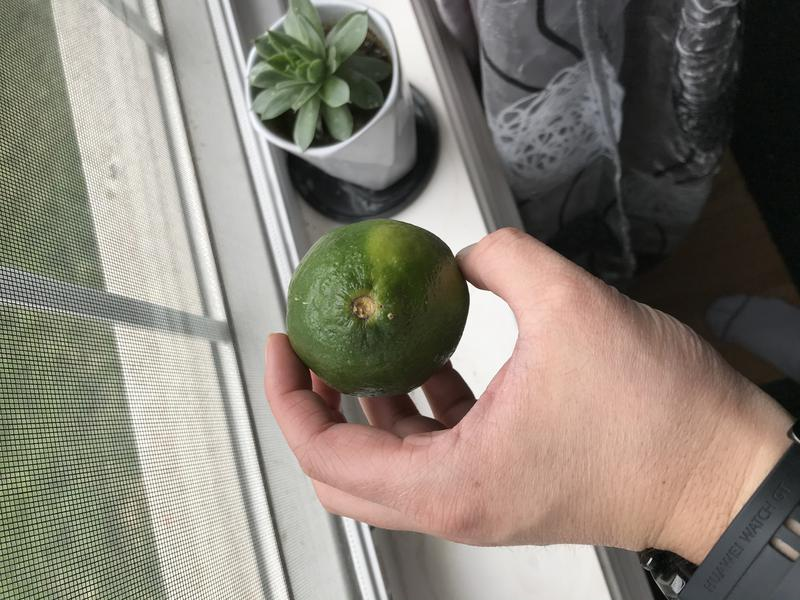lime: (279, 211, 478, 406)
